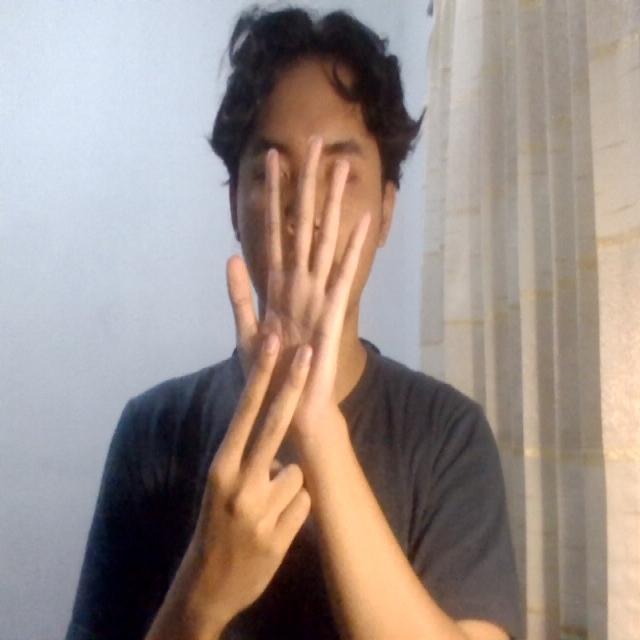IloveYou: (187, 116, 399, 533)
